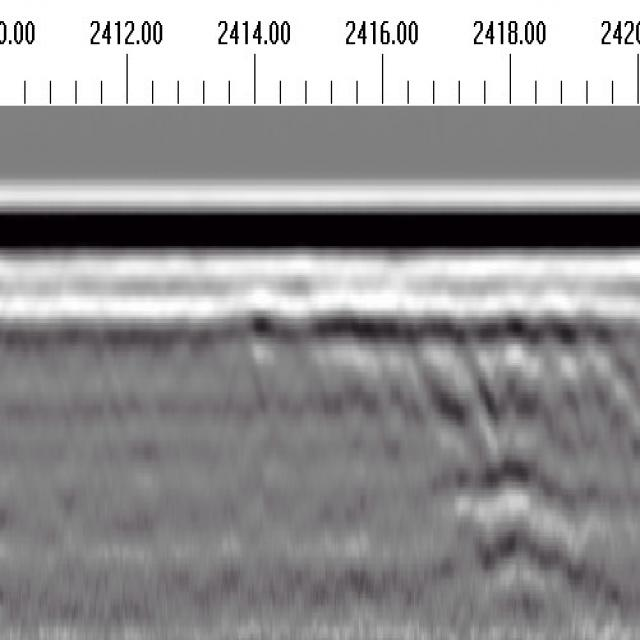loose: (394, 289, 640, 570)
